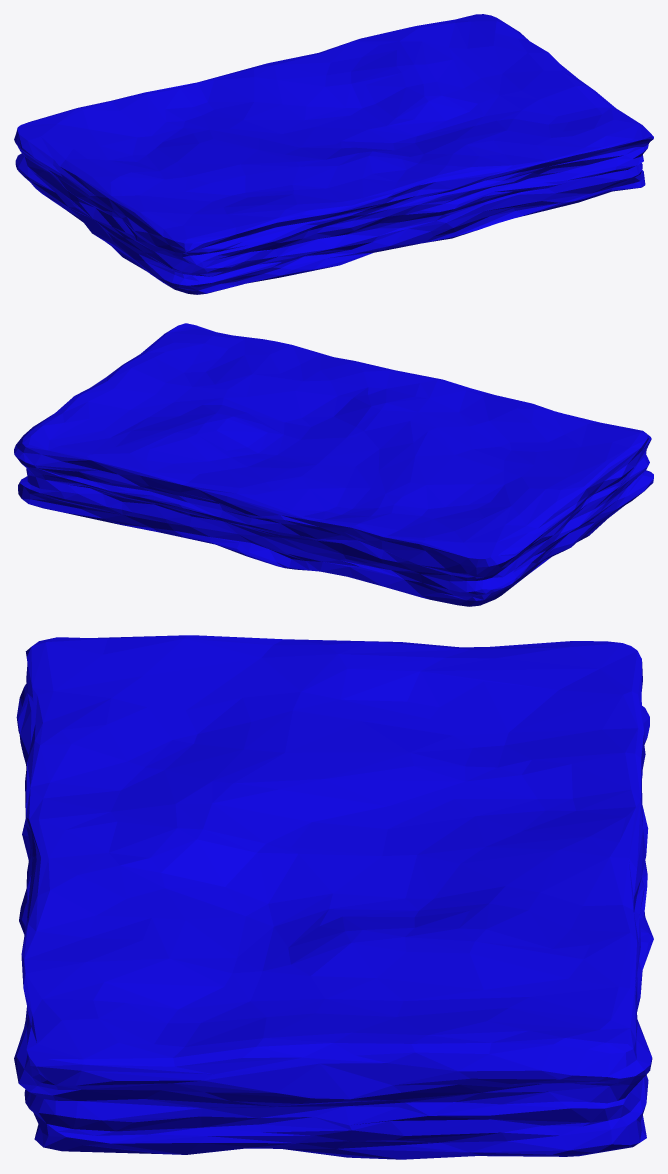
The model's file is SM_ARAMID_FABRIC.gltf.
The picture shows the model from 3 angles, top to bottom: view 1: azimuth 30°, elevation 25°; view 2: azimuth 150°, elevation 25°; view 3: azimuth 270°, elevation 25°; orthographic projection. The views are drawn at different scales.
Visible parts, largest first — view 1: SM_ARAMID_FABRIC; view 2: SM_ARAMID_FABRIC; view 3: SM_ARAMID_FABRIC.
Part boxes in pixels (box(x1,y1,x2,y2)): SM_ARAMID_FABRIC: box(14, 14, 653, 294); SM_ARAMID_FABRIC: box(14, 323, 653, 606); SM_ARAMID_FABRIC: box(14, 635, 653, 1159).
Size of the model in its own units: 0.4171 by 0.0541 by 0.2606.
